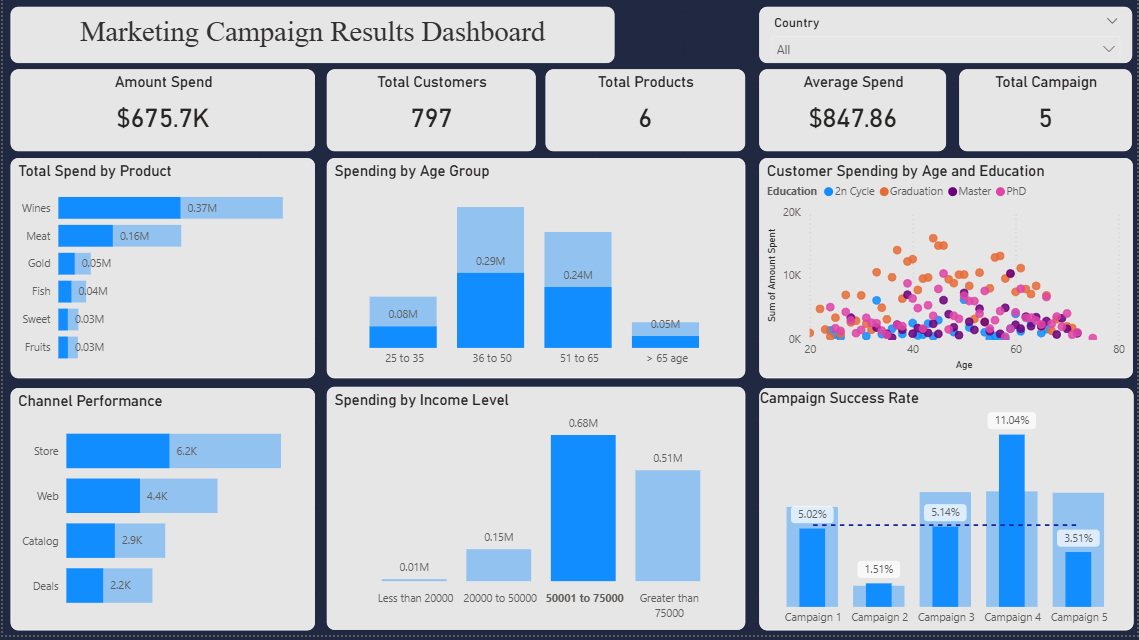

The dashboard page shown, as its layout file describes it:
{"tool":"powerbi","page":{"name":"Page 1","canvas":[1280,720],"ordinal":0},"visuals":[{"type":"card","title":"Total Customers","fields":{"Values":["CountNonNull(marketing_data.ID)"]},"box":[363.6,79.6,234.6,91.9],"z":0},{"type":"card","title":"Total Products","fields":{"Values":["MarketingData.Total Products"]},"box":[609.3,79.6,223.7,91.9],"z":1000},{"type":"card","title":"Average Spend","fields":{"Values":["MarketingData.Avg Spend per Customer"]},"box":[848,79.6,209.9,91.9],"z":2000},{"type":"card","title":"Total Campaign","fields":{"Values":["MarketingData.Total Campaign"]},"box":[1073.1,79.6,193.5,91.9],"z":3000},{"type":"card","title":"Amount Spend  ","fields":{"Values":["MarketingData.Total Revenue"]},"box":[8.2,79.6,341.7,91.9],"z":4000},{"type":"barChart","title":"Total Spend by Product","fields":{"Y":["Products.Total Spend by Product"],"Category":["Products.Product"]},"box":[8.2,179.8,341.7,247],"z":5000},{"type":"barChart","title":"Channel Performance","fields":{"Y":["Channels.Total by Channel"],"Category":["Channels.Channel"]},"box":[8.2,437.7,341.7,271.7],"z":6000},{"type":"textbox","box":[8.2,9.6,677.9,63.1],"z":7000},{"type":"columnChart","title":"Spending by Age Group","fields":{"Y":["MarketingData.Amount Spent"],"Category":["MarketingData.Age Group"]},"box":[363.6,179.8,469.3,247],"z":8000},{"type":"columnChart","title":"Spending by Income Level","fields":{"Y":["MarketingData.Amount Spent"],"Category":["MarketingData.Income brackets"]},"box":[363.6,436.4,469.3,273.1],"z":9000},{"type":"scatterChart","title":"Customer Spending by Age and Education","fields":{"Y":["Sum(MarketingData.Amount Spent )"],"X":["MarketingData.Age"],"Series":["MarketingData.Education"]},"box":[847.7,180,419.2,246.9],"z":10000},{"type":"lineStackedColumnComboChart","title":"Campaign Success Rate","fields":{"Category":["Campaigns.Campaign"],"Y":["Campaigns.Campaign Success Rate"],"Y2":["Campaigns.Overall Campaign Success Rate"]},"box":[848,437.7,419.9,271.7],"z":11000},{"type":"slicer","fields":{"Values":["MarketingData.Country"]},"box":[848,9.6,418.5,63.1],"z":12000}]}

Visuals, with their boxes in screenshot pixels (x1, y1, x2, y2), scaled from the page's 1280x720 canvas onto the 1139x640 screenshot:
"Total Customers" card: bbox(324, 71, 532, 152)
"Total Products" card: bbox(542, 71, 741, 152)
"Average Spend" card: bbox(755, 71, 941, 152)
"Total Campaign" card: bbox(955, 71, 1127, 152)
"Amount Spend  " card: bbox(7, 71, 311, 152)
"Total Spend by Product" barChart: bbox(7, 160, 311, 379)
"Channel Performance" barChart: bbox(7, 389, 311, 631)
textbox: bbox(7, 9, 611, 65)
"Spending by Age Group" columnChart: bbox(324, 160, 741, 379)
"Spending by Income Level" columnChart: bbox(324, 388, 741, 631)
"Customer Spending by Age and Education" scatterChart: bbox(754, 160, 1127, 379)
"Campaign Success Rate" lineStackedColumnComboChart: bbox(755, 389, 1128, 631)
slicer - MarketingData.Country: bbox(755, 9, 1127, 65)
